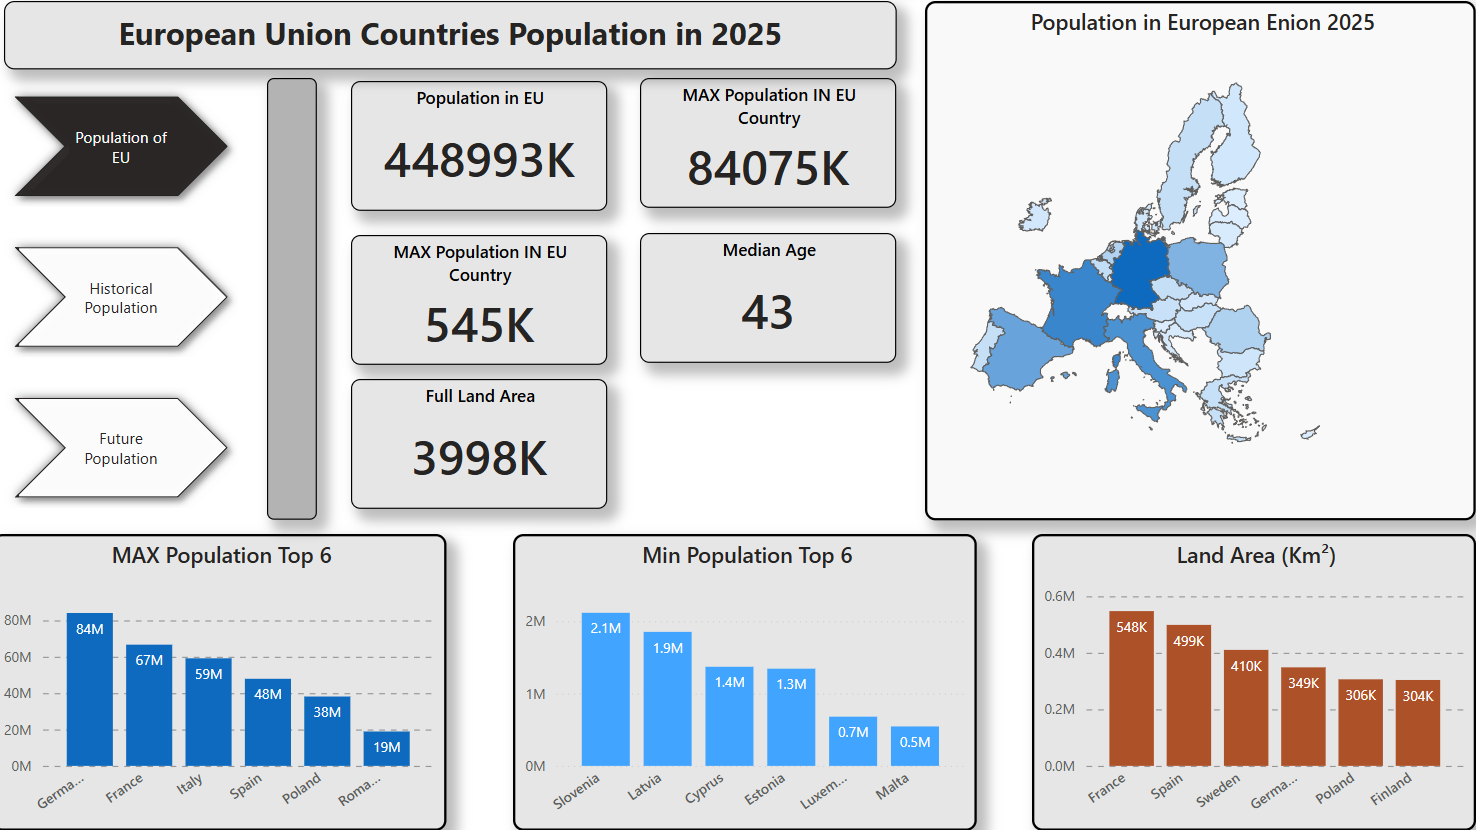

What the dashboard file says about the page in this screenshot:
{"tool":"powerbi","page":{"name":"Population of EU","canvas":[1280,720],"ordinal":0},"visuals":[{"type":"shapeMap","title":"Population in European Enion 2025","fields":{"Category":["eu_population.Country (or dependency)"],"Value":["Sum(eu_population.Population (2025))"]},"box":[805,4,475,448],"z":0},{"type":"columnChart","title":"MAX Population Top 6","fields":{"Category":["eu_population.Country (or dependency)"],"Y":["Sum(eu_population.Population (2025))"]},"box":[0,464,392,256],"z":1000},{"type":"card","title":"Population in EU","fields":{"Values":["eu_population.EUpopulationMeasure"]},"box":[310,73,221,112],"z":2000},{"type":"card","title":"MAX Population IN EU Country","fields":{"Values":["eu_population.maxPopulationofeu"]},"box":[559,71,221,112],"z":3000},{"type":"card","title":"MAX Population IN EU Country","fields":{"Values":["eu_population.minpopulationofEU"]},"box":[310,206,221,112],"z":4000},{"type":"columnChart","title":"Land Area (Km²) ","fields":{"Category":["eu_population.Country (or dependency)"],"Y":["Sum(eu_population.Land Area (Km²))"]},"box":[897,464,383,256],"z":5000},{"type":"columnChart","title":"Min Population Top 6","fields":{"Category":["eu_population.Country (or dependency)"],"Y":["Sum(eu_population.Population (2025))"]},"box":[449,464,400,256],"z":6000},{"type":"card","title":"Median Age","fields":{"Values":["eu_population.Median Age Measure"]},"box":[559,204,221,112],"z":7000},{"type":"card","title":"Full Land Area","fields":{"Values":["eu_population.Land Area mesaure"]},"box":[310,330,221,112],"z":8000},{"type":"textbox","box":[10,4,770,59],"z":9000},{"type":"textbox","box":[237,71,43,381],"z":10000},{"type":"pageNavigator","box":[10,78,202,364],"z":11000}]}

Visuals, with their boxes in screenshot pixels (x1, y1, x2, y2), scaled from the page's 1280x720 canvas onto the 1476x830 screenshot:
"Population in European Enion 2025" shapeMap: {"left": 928, "top": 5, "right": 1475, "bottom": 521}
"MAX Population Top 6" columnChart: {"left": 0, "top": 535, "right": 452, "bottom": 829}
"Population in EU" card: {"left": 357, "top": 84, "right": 612, "bottom": 213}
"MAX Population IN EU Country" card: {"left": 645, "top": 82, "right": 899, "bottom": 211}
"MAX Population IN EU Country" card: {"left": 357, "top": 237, "right": 612, "bottom": 367}
"Land Area (Km²) " columnChart: {"left": 1034, "top": 535, "right": 1475, "bottom": 829}
"Min Population Top 6" columnChart: {"left": 518, "top": 535, "right": 979, "bottom": 829}
"Median Age" card: {"left": 645, "top": 235, "right": 899, "bottom": 364}
"Full Land Area" card: {"left": 357, "top": 380, "right": 612, "bottom": 510}
textbox: {"left": 12, "top": 5, "right": 899, "bottom": 73}
textbox: {"left": 273, "top": 82, "right": 323, "bottom": 521}
pageNavigator: {"left": 12, "top": 90, "right": 244, "bottom": 510}
